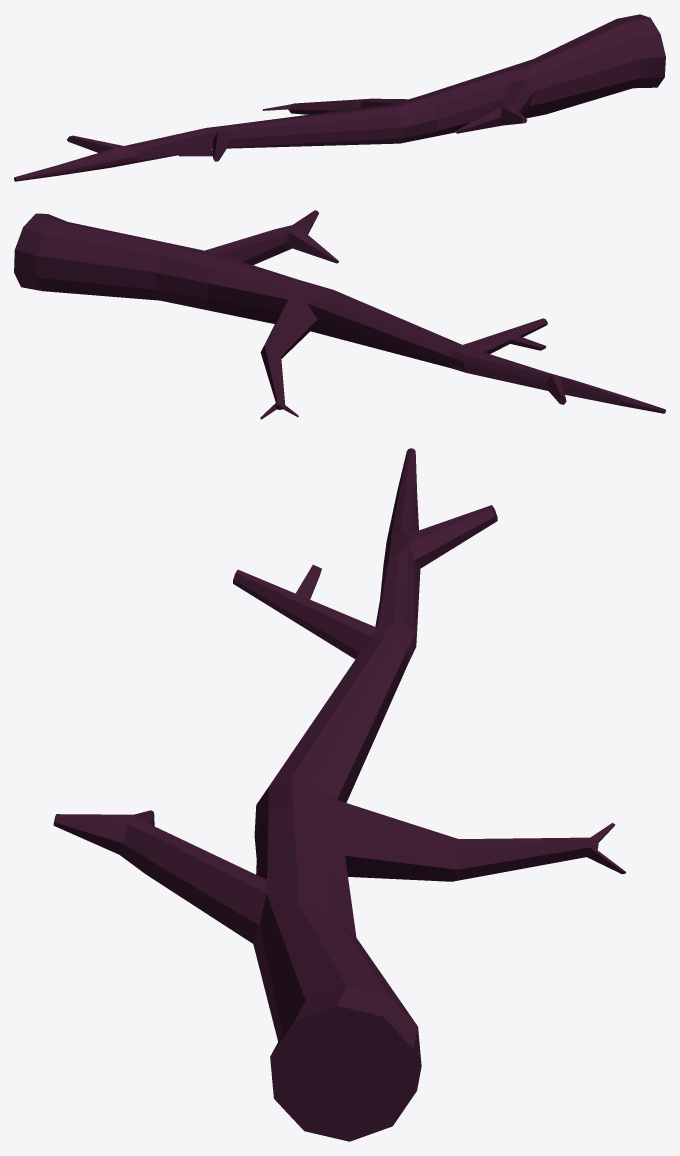
File: troncovermelho.fbx
3 renders of one model, top to bottom at view 1: azimuth 30°, elevation 25°; view 2: azimuth 150°, elevation 25°; view 3: azimuth 270°, elevation 25°, orthographic. The views are drawn at different scales.
Visible parts, largest first — view 1: Cylinder.005; view 2: Cylinder.005; view 3: Cylinder.005.
Boxes of the visible parts, box(x1,y1,x2,y2) form: Cylinder.005: box(14, 14, 665, 181); Cylinder.005: box(14, 210, 665, 419); Cylinder.005: box(53, 448, 625, 1141).
Bounding box in the file's own units: 850 × 97.05 × 341.
